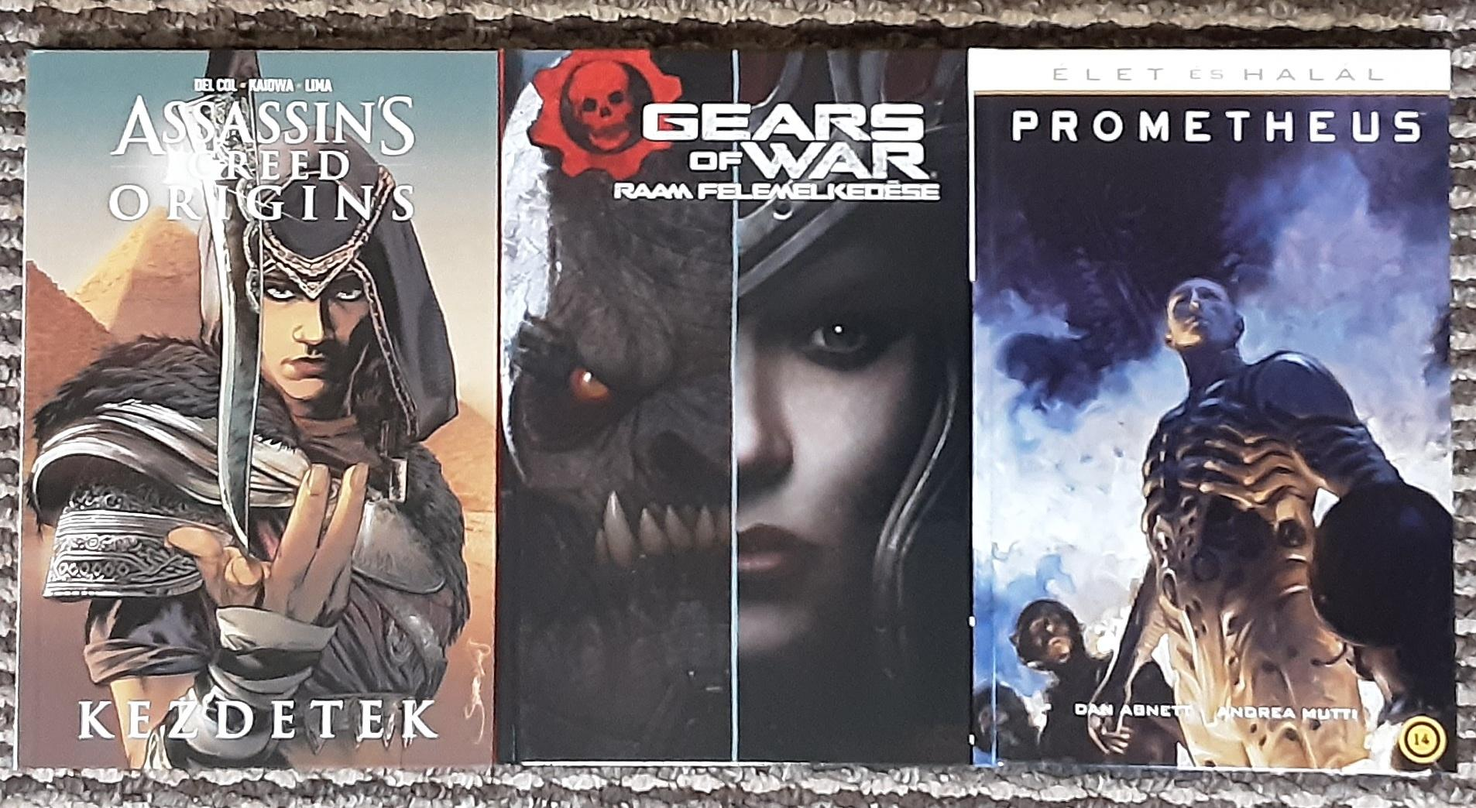comic: (16, 48, 502, 773), (970, 47, 1454, 773), (497, 49, 972, 763)
